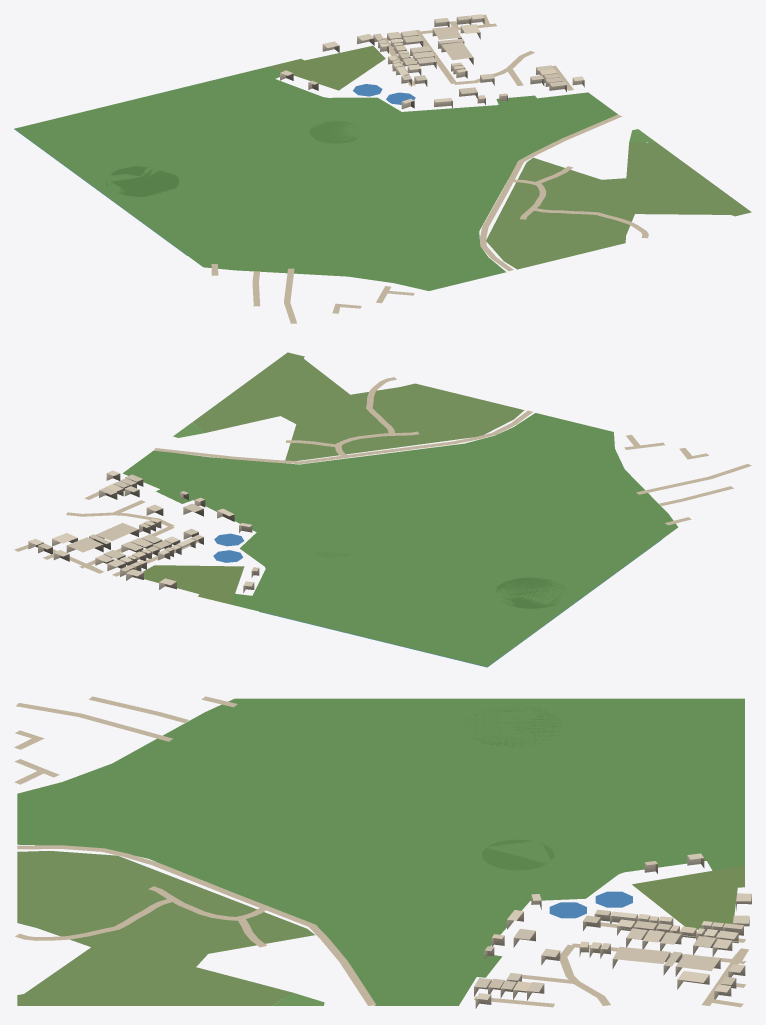
3 renders of one model, top to bottom at view 1: azimuth 30°, elevation 25°; view 2: azimuth 150°, elevation 25°; view 3: azimuth 270°, elevation 25°, orthographic. The views are drawn at different scales.
Visible parts, largest first — view 1: ground, building, water; view 2: ground, building, water; view 3: ground, building, water.
Part boxes in pixels (box(x1,y1,x2,y2)): ground: box(14, 14, 751, 323); building: box(280, 14, 584, 109); water: box(14, 84, 415, 255); ground: box(14, 352, 751, 666); building: box(28, 470, 259, 592); water: box(213, 533, 661, 667); ground: box(14, 696, 748, 1007); building: box(474, 853, 751, 1008); water: box(549, 891, 632, 918).
Size of the model in its own units: 508 by 8 by 507.
